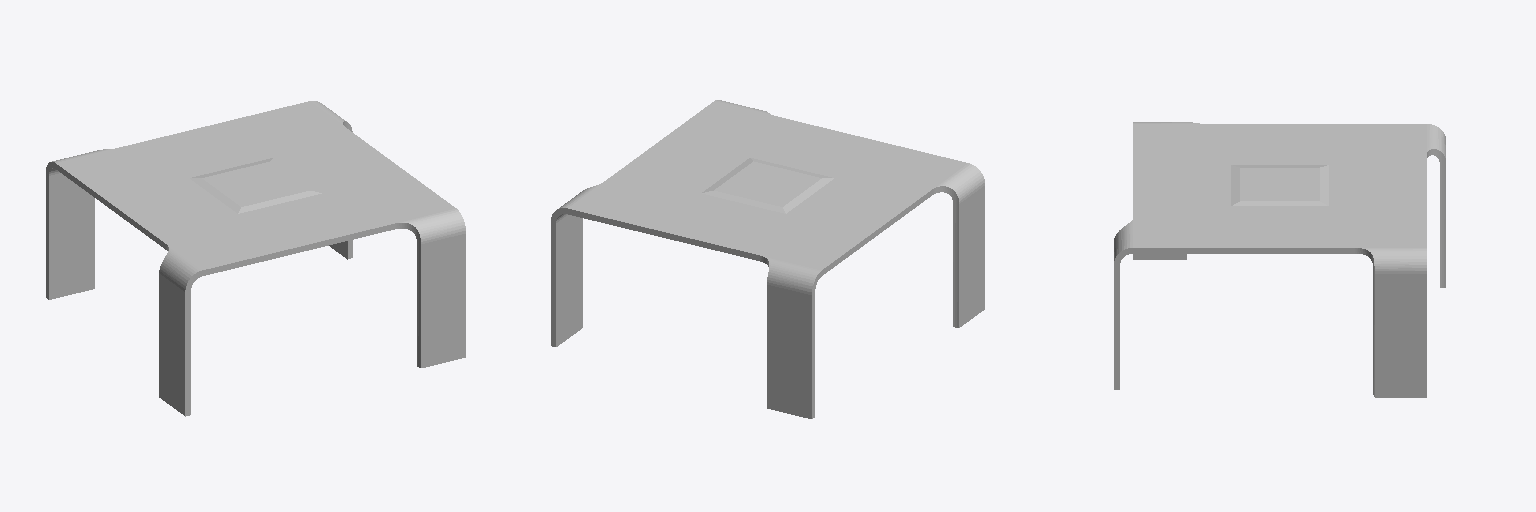
File: Axial_Table.obj
3 renders of one model, left to right at view 1: azimuth 30°, elevation 25°; view 2: azimuth 150°, elevation 25°; view 3: azimuth 270°, elevation 25°, orthographic.
Parts seen in each view (by area): view 1: *U58, *U56, *U55, *U57, *U59; view 2: *U56, *U55, *U57, *U58, *U59; view 3: *U57, *U58, *U56, *U55, *U59.
Boxes of the visible parts, x1=… form: *U58: x1=278, y1=139, x2=465, y2=367; *U56: x1=46, y1=141, x2=234, y2=299; *U55: x1=150, y1=195, x2=365, y2=416; *U57: x1=147, y1=101, x2=360, y2=259; *U59: x1=190, y1=158, x2=321, y2=213; *U56: x1=731, y1=181, x2=915, y2=418; *U55: x1=756, y1=123, x2=984, y2=327; *U57: x1=551, y1=170, x2=779, y2=346; *U58: x1=621, y1=100, x2=803, y2=190; *U59: x1=702, y1=158, x2=833, y2=213; *U57: x1=1322, y1=168, x2=1426, y2=397; *U58: x1=1114, y1=204, x2=1321, y2=389; *U56: x1=1238, y1=124, x2=1445, y2=287; *U55: x1=1133, y1=122, x2=1237, y2=259; *U59: x1=1231, y1=165, x2=1328, y2=205.
Size of the model in its own units: 1020 by 485 by 1020.